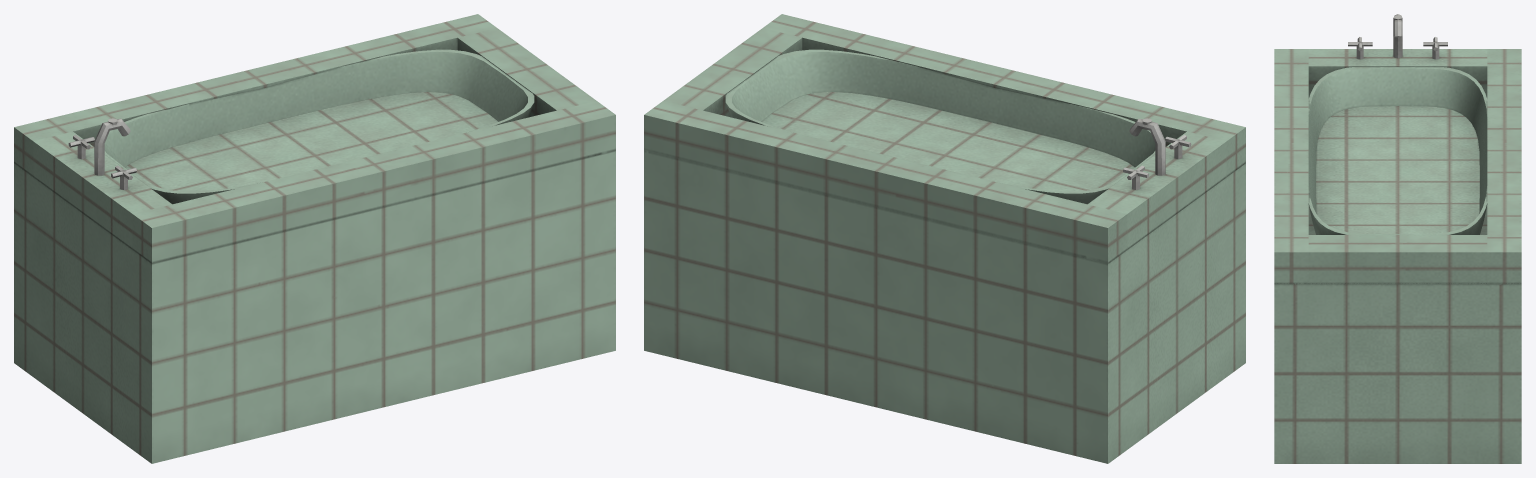
The model's file is H_Bathtub.fbx.
3 views of the same model, side by side, from view 1: azimuth 30°, elevation 25°; view 2: azimuth 150°, elevation 25°; view 3: azimuth 270°, elevation 25° (orthographic). The views are drawn at different scales.
Parts seen in each view (by area): view 1: H_Bathtub; view 2: H_Bathtub; view 3: H_Bathtub.
Part boxes in pixels (left/top/right/bottom): H_Bathtub: left=14, top=14, right=615, bottom=463; H_Bathtub: left=644, top=14, right=1245, bottom=463; H_Bathtub: left=1274, top=14, right=1521, bottom=463.
Bounding box in the file's own units: 700 × 412 × 360.
1 material, 1 textured.
